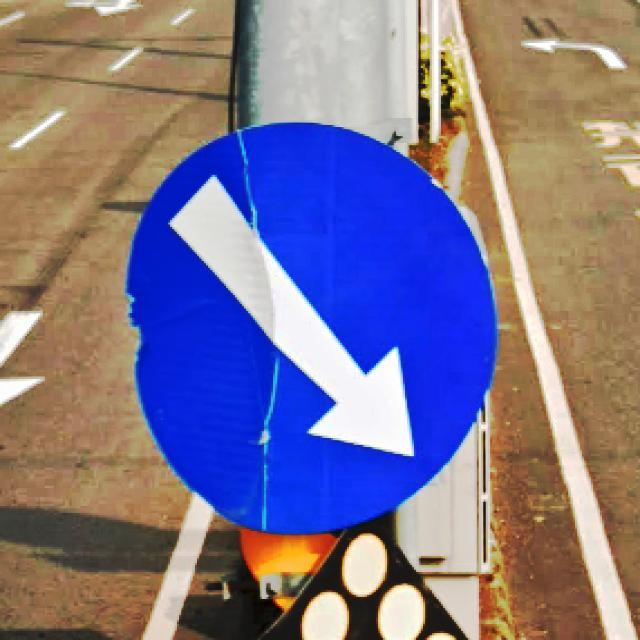thisway: (123, 118, 497, 536)
